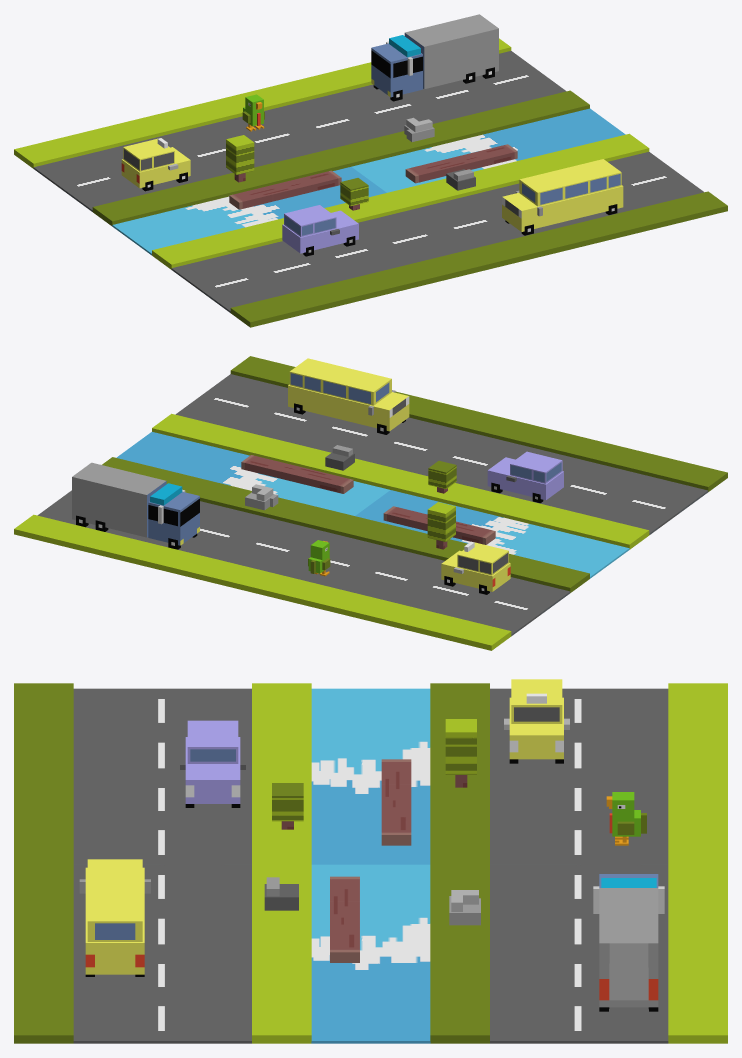
Rendered from CROSSY ROAD.FBX.
3 renders of one model, top to bottom at view 1: azimuth 30°, elevation 25°; view 2: azimuth 150°, elevation 25°; view 3: azimuth 270°, elevation 25°, orthographic. The views are drawn at different scales.
Parts seen in each view (by area): view 1: Box022, Box019, Box026, Box006, Box012, Box010, Box027, Box021, Box007, Box004, Box024, Box025 (+13 smaller); view 2: Box026, Box012, Box022, Box006, Box019, Box010, Box027, Box025, Box018, Box004, Box021, Box023 (+13 smaller); view 3: Box022, Box026, Box012, Box019, Box010, Box027, Box007, Box018, Box021, Box025, Box008, Box017 (+13 smaller).
Boxes of the visible parts, x1,y1,x2,y2 form: Box022: (171,210,465,312); Box019: (273,51,566,149); Box026: (33,109,327,211); Box006: (371,14,498,101); Box012: (411,152,703,250); Box010: (351,108,625,192); Box027: (112,167,386,255); Box021: (230,249,489,327); Box007: (470,191,727,269); Box004: (502,159,623,235); Box024: (92,149,351,226); Box025: (14,91,272,168); Box026: (276,533,570,636); Box012: (175,374,468,472); Box022: (414,432,708,534); Box006: (72,462,199,549); Box019: (37,490,331,573); Box010: (116,432,389,515); Box027: (355,490,629,578); Box025: (252,573,511,650); Box018: (14,514,271,592); Box004: (288,358,409,434); Box021: (469,414,727,491); Box023: (390,472,649,549); Box022: (73,688,251,864); Box026: (490,688,668,864); Box012: (73,864,251,1043); Box019: (490,864,668,1043); Box010: (311,864,430,1043); Box027: (311,688,430,864); Box007: (14,859,73,1043); Box018: (668,859,727,1043); Box021: (14,683,73,859); Box025: (668,683,727,859); Box008: (252,859,311,1043); Box017: (430,859,489,1043).
Size of the model in its own units: 280 by 32.59 by 240.
